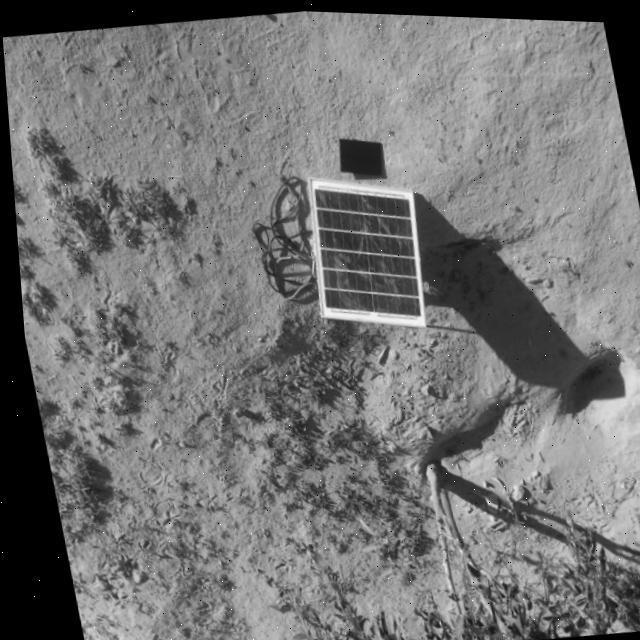Normal Solar Panel: (331, 130, 386, 176)
